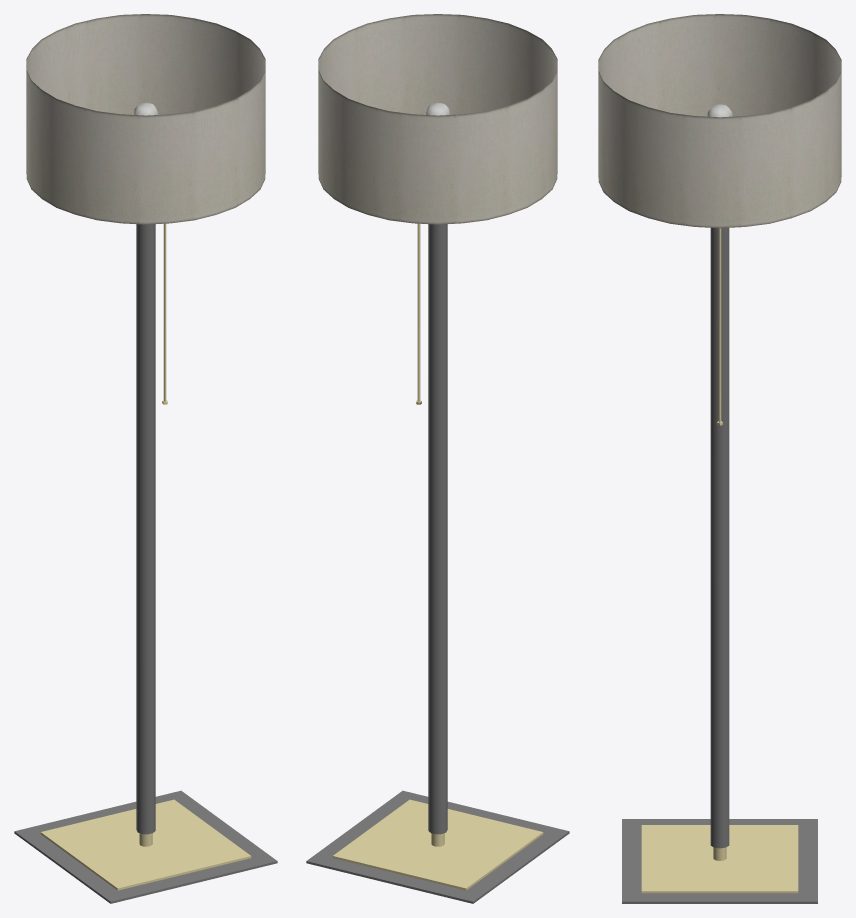
File: FloorLamp03.fbx
3 views of the same model, side by side, from view 1: azimuth 30°, elevation 25°; view 2: azimuth 150°, elevation 25°; view 3: azimuth 270°, elevation 25° (orthographic).
Parts seen in each view (by area): view 1: Tulipa, Metal01, Tulipa6, Metal02; view 2: Tulipa, Tulipa6, Metal01, Metal02; view 3: Tulipa, Tulipa6, Metal01, Metal02.
Boxes of the visible parts, x1,y1,x2,y2 form: Tulipa: (26, 14, 265, 224); Metal01: (14, 224, 277, 903); Tulipa6: (26, 14, 265, 224); Metal02: (40, 223, 251, 890); Tulipa: (318, 14, 557, 224); Tulipa6: (318, 14, 557, 224); Metal01: (306, 224, 569, 903); Metal02: (332, 223, 543, 890); Tulipa: (598, 14, 841, 228); Tulipa6: (598, 14, 841, 227); Metal01: (622, 228, 817, 903); Metal02: (641, 228, 798, 893).
Bounding box in the file's own units: 0.499 × 1.8 × 0.4973.
